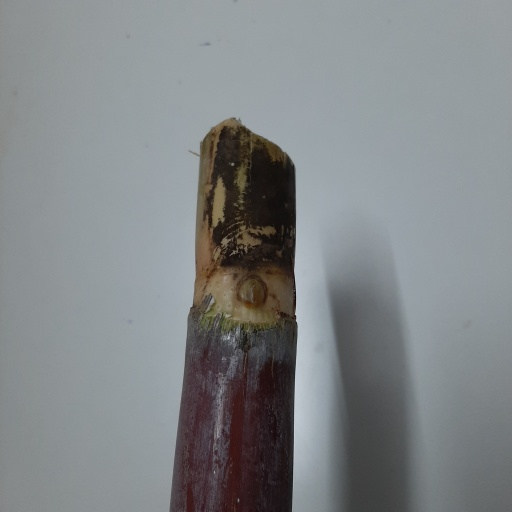Bud: (236, 273, 267, 308)
